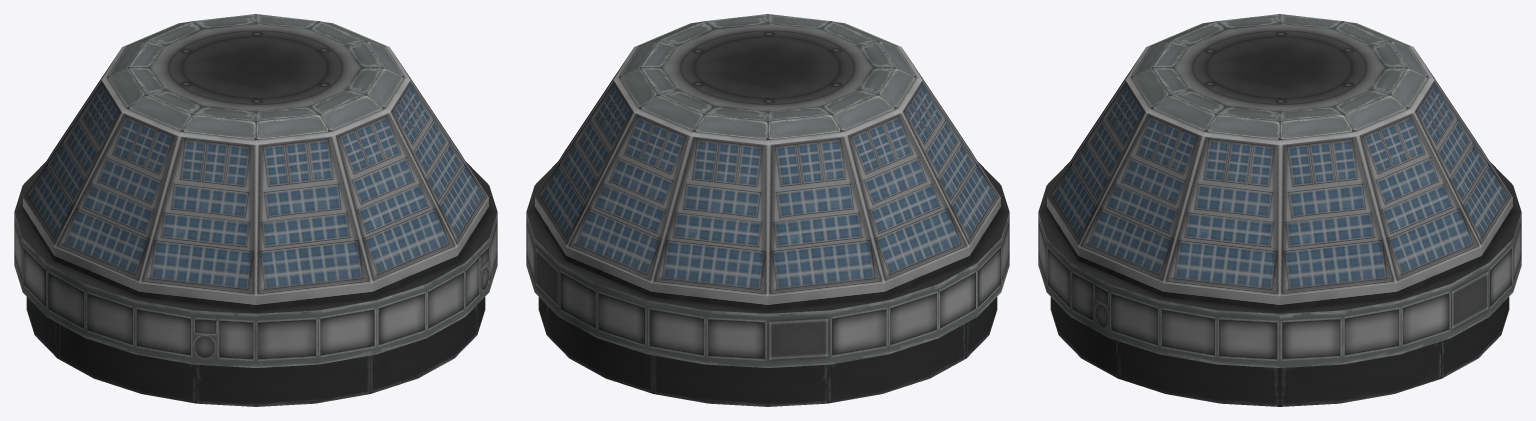
The model's file is bluedog_explorer7probe.dae.
3 views of the same model, side by side, from view 1: azimuth 30°, elevation 25°; view 2: azimuth 150°, elevation 25°; view 3: azimuth 270°, elevation 25° (orthographic).
Parts seen in each view (by area): view 1: Explorer7; view 2: Explorer7; view 3: Explorer7.
Boxes of the visible parts, bbox=[...] form: Explorer7: bbox=[14, 14, 497, 406]; Explorer7: bbox=[526, 14, 1009, 406]; Explorer7: bbox=[1038, 14, 1521, 406].
Size of the model in its own units: 0.656 by 0.3632 by 0.656.
